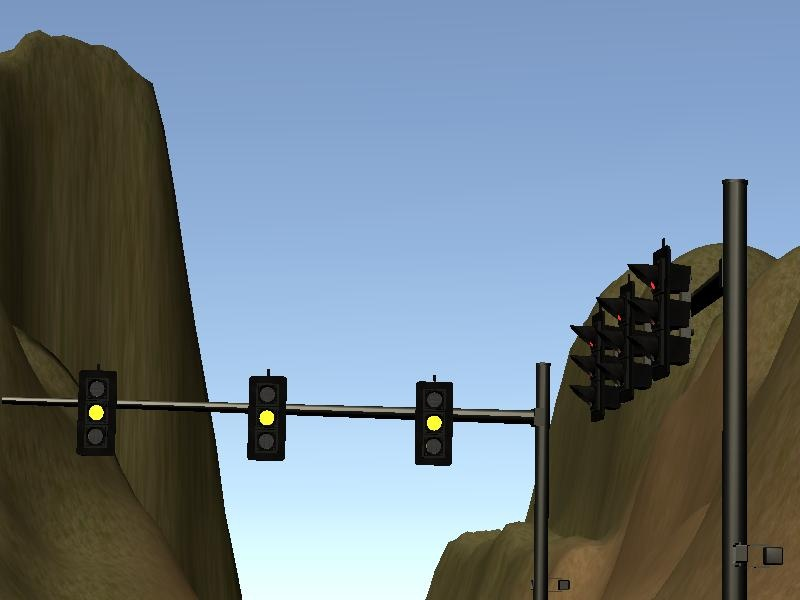YELLOW: (246, 374, 288, 462), (78, 370, 117, 456), (414, 380, 453, 466)
